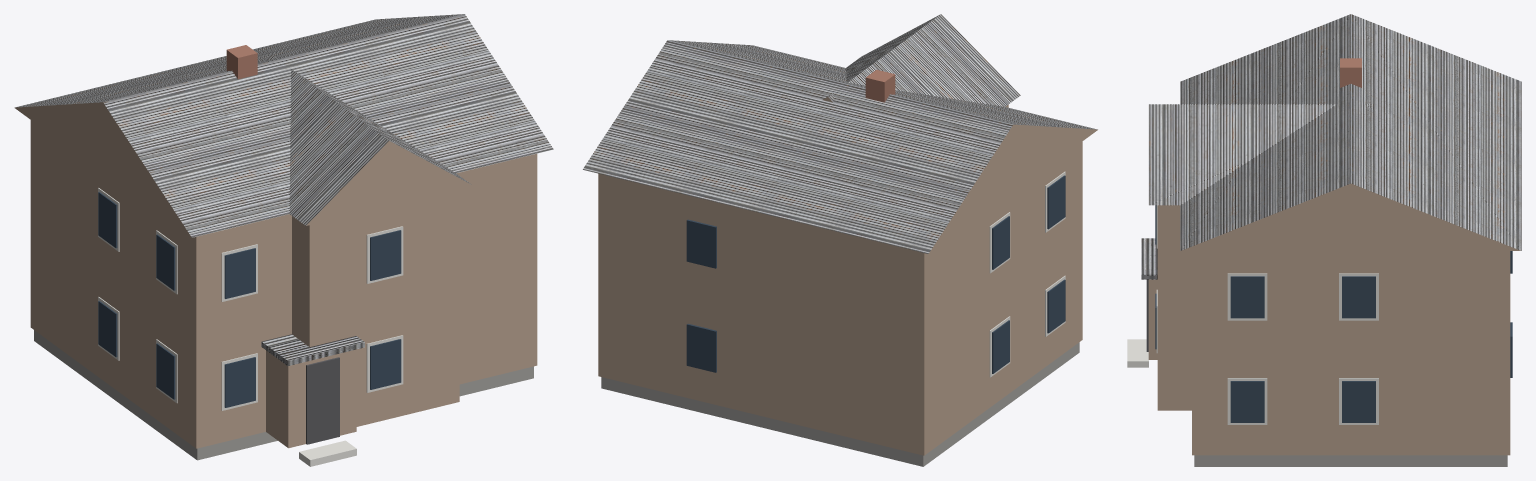
File: asset.glb
The picture shows the model from 3 angles, left to right: view 1: azimuth 30°, elevation 25°; view 2: azimuth 150°, elevation 25°; view 3: azimuth 270°, elevation 25°; orthographic projection. The views are drawn at different scales.
Parts seen in each view (by area): view 1: body, roof, wing_body, roof_wing, gable_end, wing_gable, porch, foundation, door, porch_cap, win, win.001 (+10 smaller); view 2: body, roof, roof_wing, gable_end, foundation, win.013, win.006, chimney, win.009, win.002, win.003, win.010; view 3: body, roof, gable_end, roof_wing, wing_body, foundation, win.011, win.004, win.012, win.005, porch_cap, porch (+6 smaller).
Part boxes in pixels (left/top/right/bottom): body: left=30, top=120, right=537, bottom=448; roof: left=15, top=14, right=553, bottom=237; wing_body: left=292, top=188, right=459, bottom=426; roof_wing: left=265, top=54, right=471, bottom=225; gable_end: left=14, top=102, right=191, bottom=237; wing_gable: left=306, top=141, right=472, bottom=225; porch: left=266, top=349, right=356, bottom=448; foundation: left=34, top=330, right=533, bottom=460; door: left=306, top=357, right=339, bottom=444; porch_cap: left=261, top=334, right=364, bottom=365; win: left=224, top=357, right=255, bottom=407; win.001: left=370, top=339, right=401, bottom=389; body: left=598, top=141, right=1082, bottom=455; roof: left=583, top=40, right=1097, bottom=253; roof_wing: left=824, top=14, right=1020, bottom=106; gable_end: left=929, top=124, right=1097, bottom=253; foundation: left=601, top=342, right=1079, bottom=466; win.013: left=686, top=219, right=716, bottom=268; win.006: left=686, top=323, right=716, bottom=372; chimney: left=865, top=69, right=895, bottom=102; win.009: left=1047, top=175, right=1065, bottom=229; win.002: left=1047, top=279, right=1065, bottom=333; win.003: left=992, top=320, right=1009, bottom=373; win.010: left=992, top=216, right=1009, bottom=269; body: left=1192, top=251, right=1510, bottom=455; roof: left=1180, top=14, right=1521, bottom=250; gable_end: left=1181, top=183, right=1520, bottom=250; roof_wing: left=1148, top=104, right=1376, bottom=205; wing_body: left=1157, top=205, right=1191, bottom=410; foundation: left=1194, top=455, right=1507, bottom=466; win.011: left=1230, top=276, right=1264, bottom=318; win.004: left=1230, top=381, right=1264, bottom=422; win.012: left=1342, top=276, right=1375, bottom=318; win.005: left=1342, top=381, right=1375, bottom=422; porch_cap: left=1141, top=238, right=1157, bottom=279; porch: left=1148, top=279, right=1157, bottom=359.
Bounding box in the file's own units: 10.08 × 8.48 × 9.92.
Materials: 7 (1 with a texture image).
